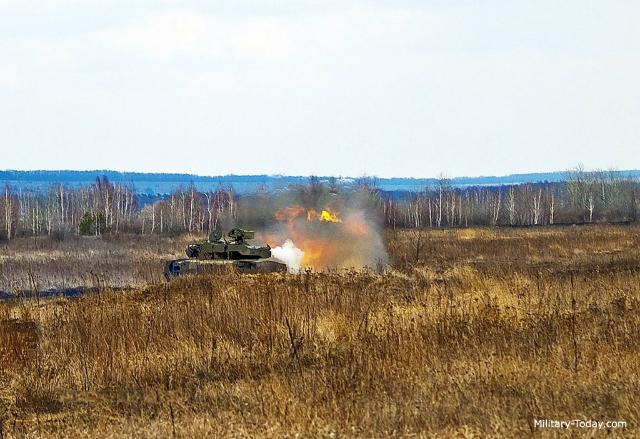tank: (167, 225, 285, 280)
